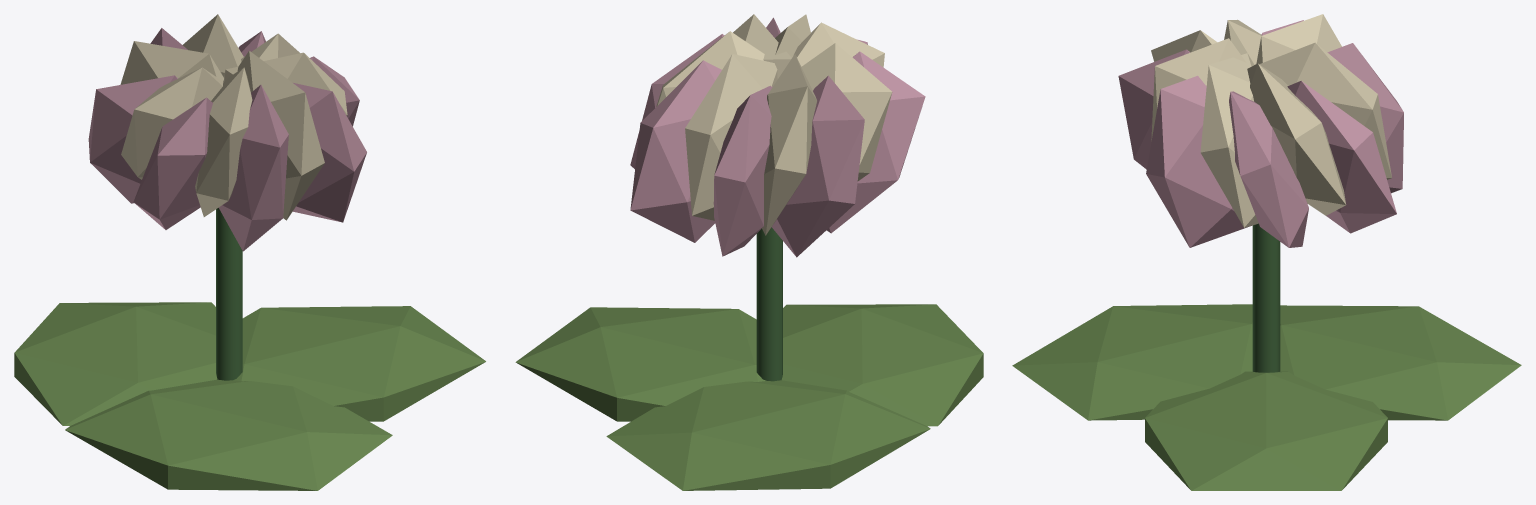
File: plant-lotus-3.glb
3 views of the same model, side by side, from view 1: azimuth 30°, elevation 25°; view 2: azimuth 150°, elevation 25°; view 3: azimuth 270°, elevation 25° (orthographic).
Parts seen in each view (by area): view 1: plant-lotus-3-visual; view 2: plant-lotus-3-visual; view 3: plant-lotus-3-visual.
Boxes of the visible parts, box(x1,y1,x2,y2) form: plant-lotus-3-visual: box(14, 14, 485, 490); plant-lotus-3-visual: box(515, 14, 983, 490); plant-lotus-3-visual: box(1012, 14, 1521, 490).
Bounding box in the file's own units: 0.582 × 0.5666 × 0.6709.
